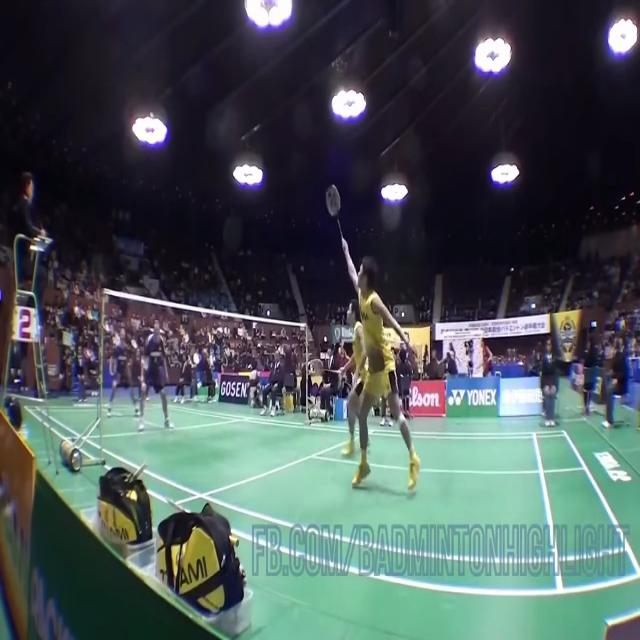shuttlecock: (150, 111, 154, 119)
